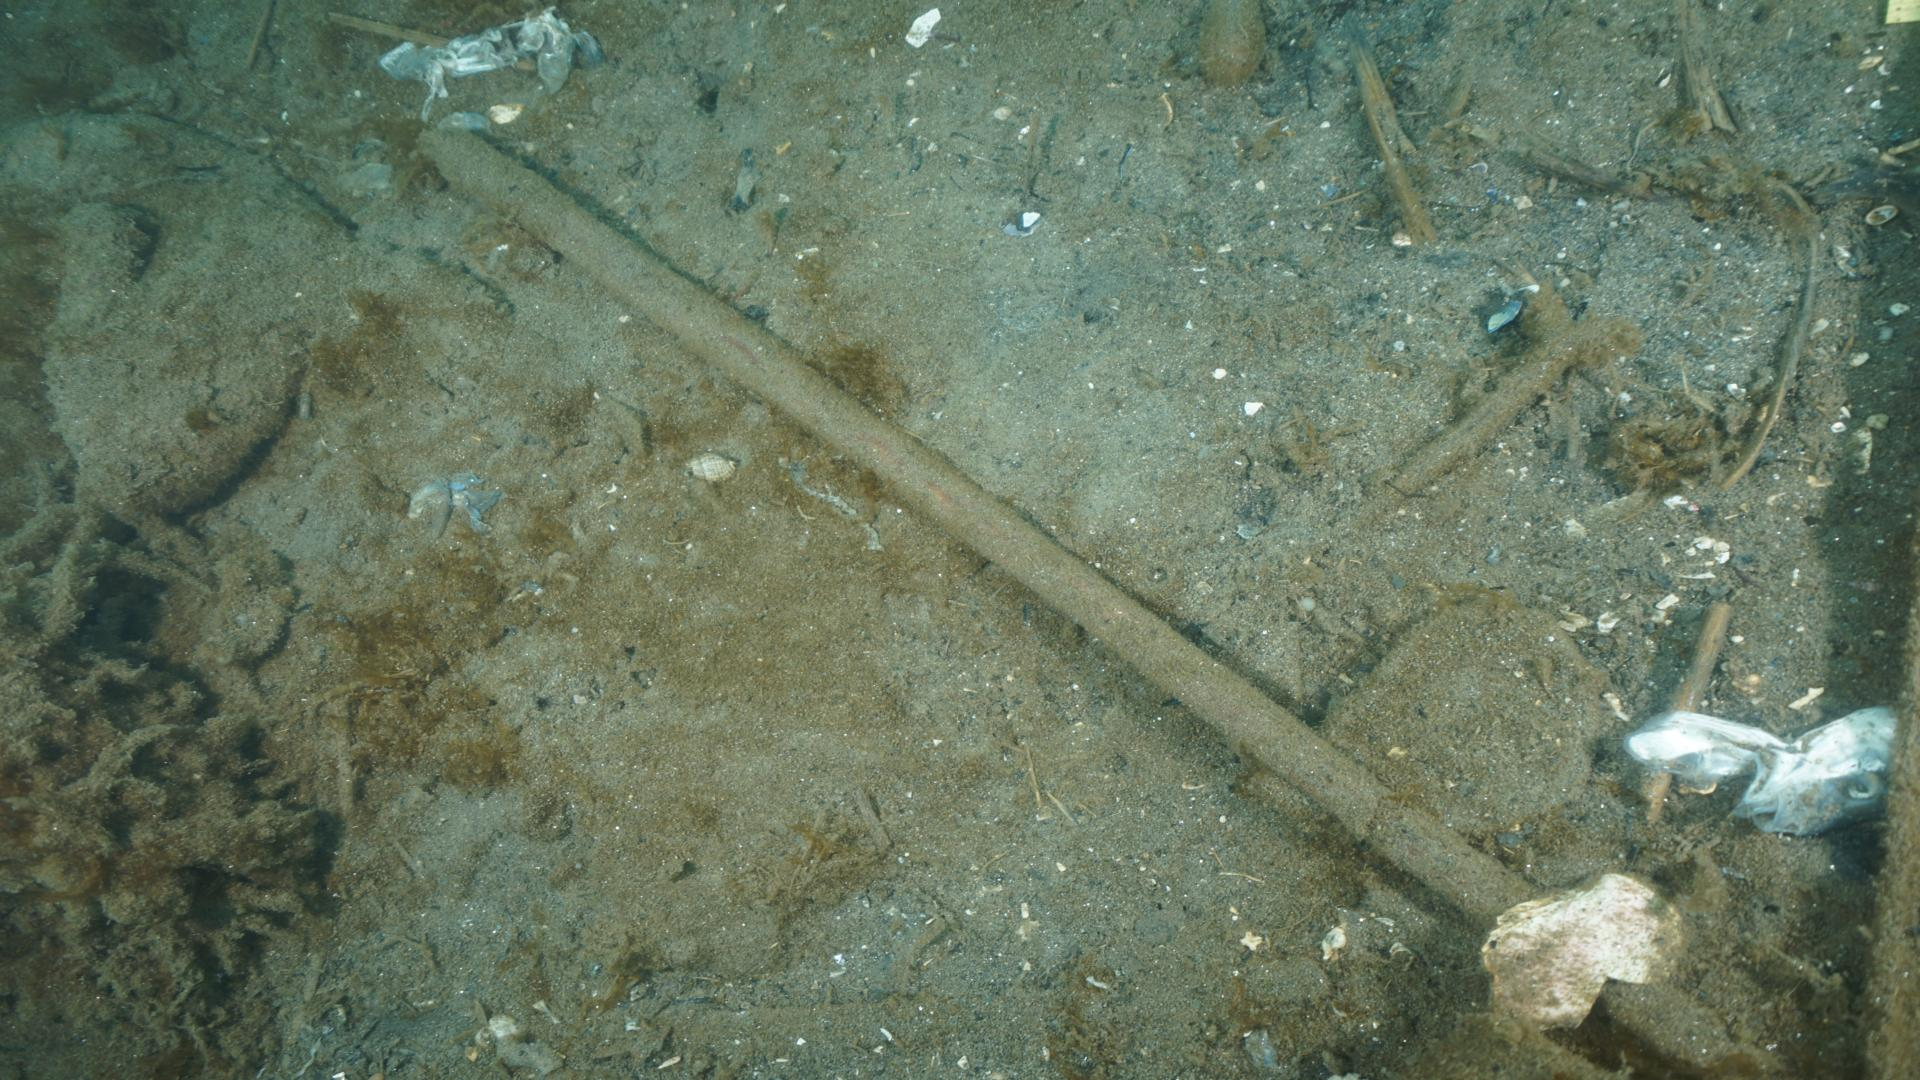wood: (411, 124, 1789, 1080)
